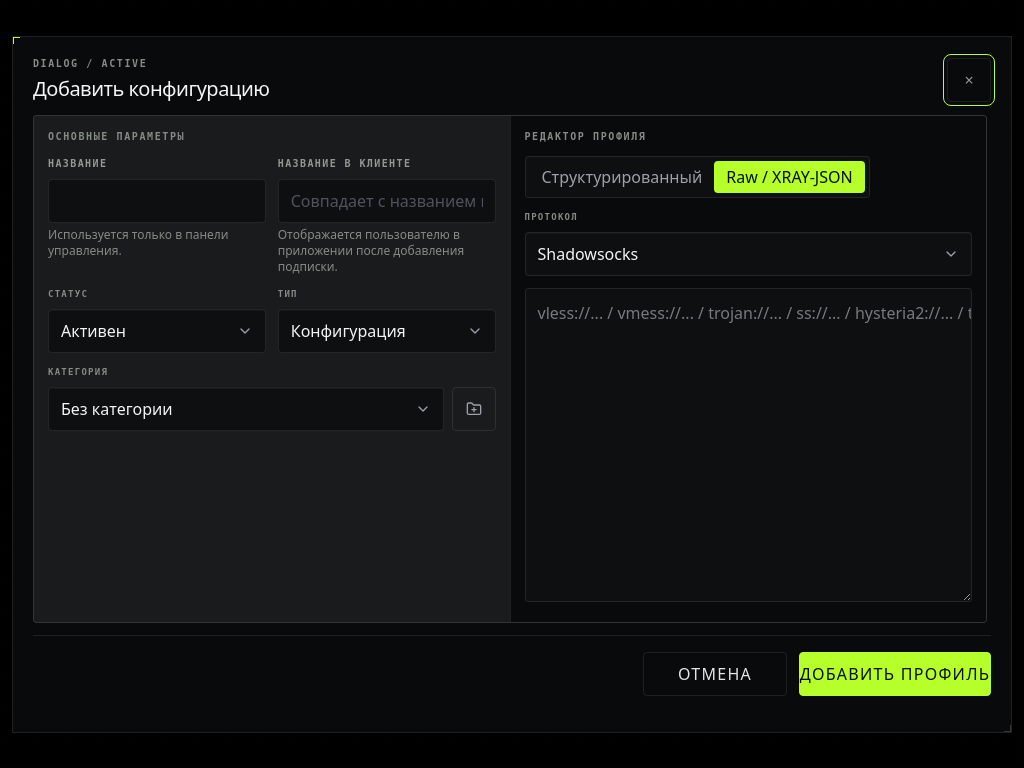
Scenario: KeyEditorModal regression recovery › renders all six create protocols from the shared capability registry
This screenshot has width=1024, height=768.
Click the button named "Протокол". click: click(588, 254)
box: x1=524 y1=232 x2=972 y2=276
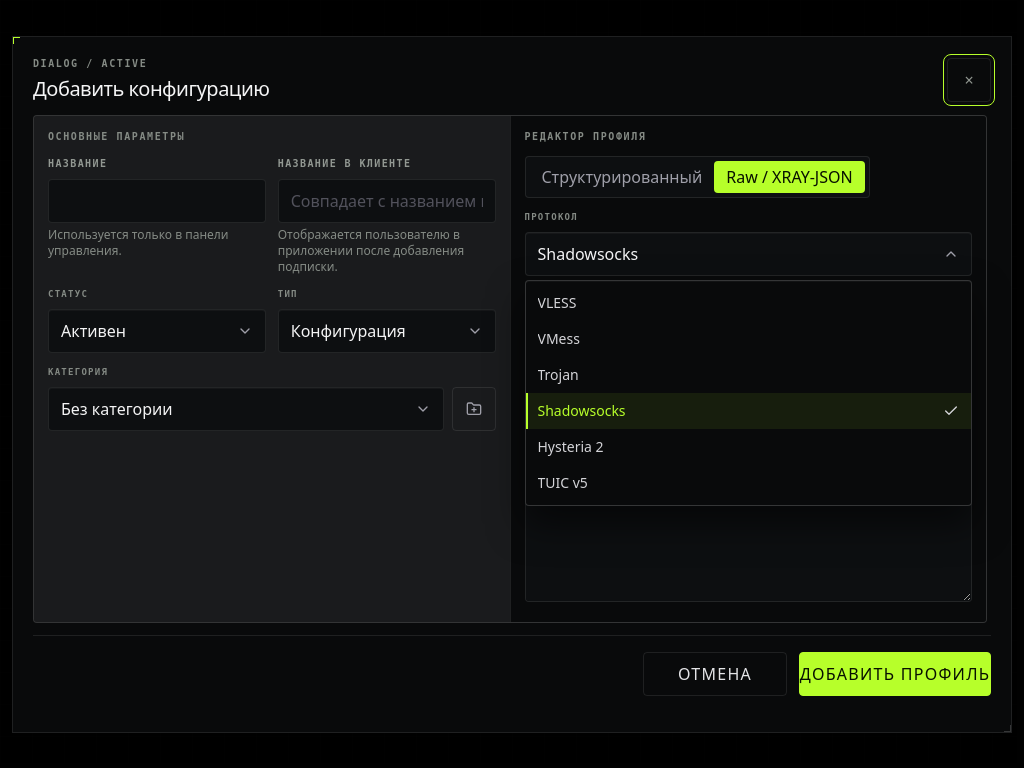
Check: the options read "VLESS", "VMess", "Trojan", "Shadowsocks", "Hysteria 2", "TUIC v5", in this order, box x1=538 y1=292 x2=576 y2=312; x1=538 y1=328 x2=580 y2=348; x1=538 y1=364 x2=579 y2=384; x1=526 y1=392 x2=971 y2=428; x1=538 y1=436 x2=604 y2=456; x1=538 y1=472 x2=588 y2=492
